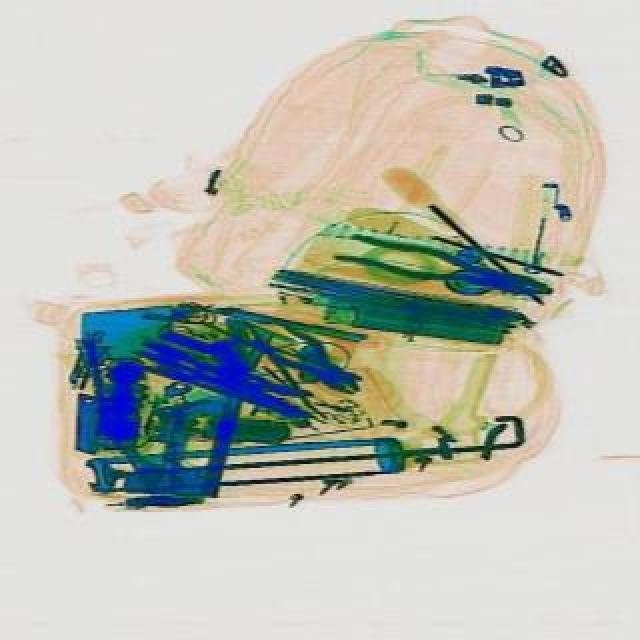wrench: (332, 226, 554, 306), (254, 314, 368, 408)
